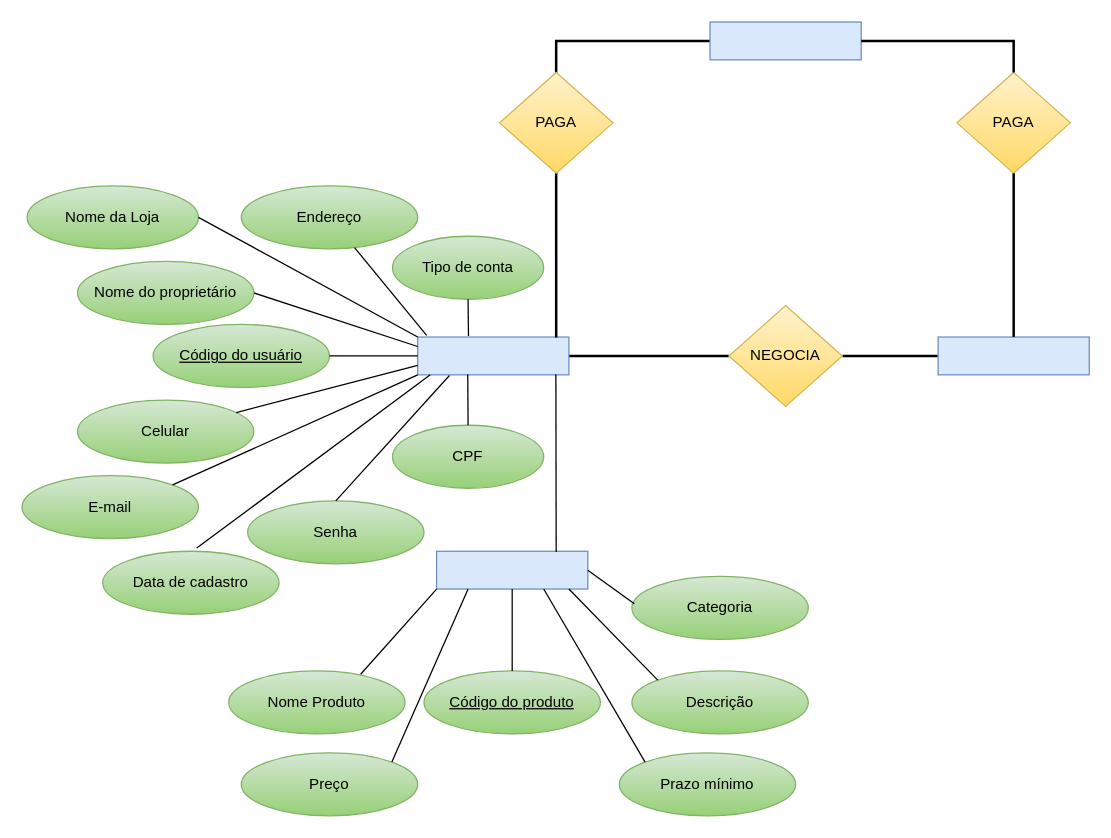
The diagram is 1111 pixels wide and 838 high, and some of its shapes have lost their labels. The shapes that lost their labels are listed below. From the top down, each one's box as (x1, y1, x2, y2) in pixels, then its label:
(709, 21, 861, 60): INSTITUIÇÃO FINANCEIRA
(416, 336, 569, 375): PRODUTOR
(937, 336, 1089, 375): CLIENTE
(435, 550, 588, 589): PRODUTO
